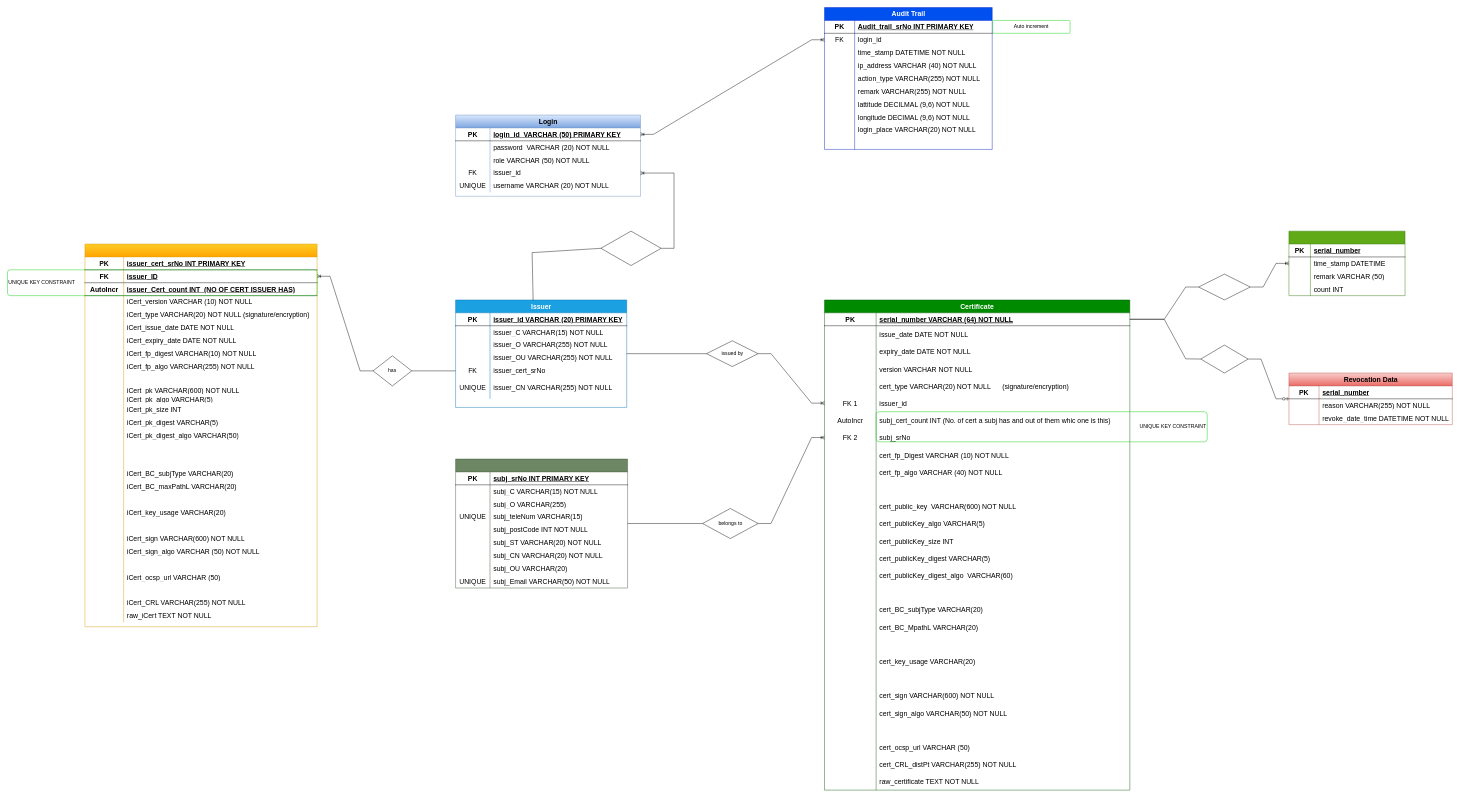
This 1460x798 diagram has some shape labels left out. The box of each missing label's shape, as (x1, y1, x2, y2) in pixels:
Certificate usage: (1288, 231, 1405, 296)
if revoked: (1200, 345, 1248, 373)
is used: (1198, 274, 1250, 300)
Issuer Certificate: (84, 244, 317, 627)
issuer employees can: (600, 231, 661, 266)
Subject: (455, 459, 628, 588)
